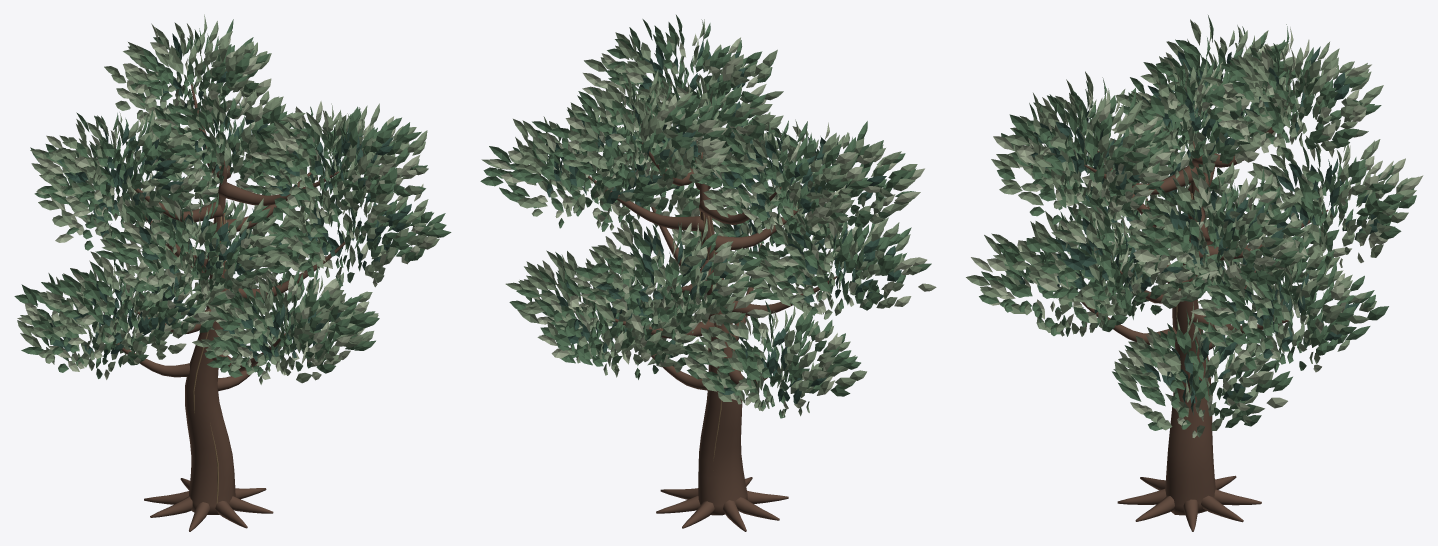
File: scholar_oak.glb
The picture shows the model from 3 angles, left to right: view 1: azimuth 30°, elevation 25°; view 2: azimuth 150°, elevation 25°; view 3: azimuth 270°, elevation 25°; orthographic projection. The views are drawn at different scales.
Visible parts, largest first — view 1: scholar_oak; view 2: scholar_oak; view 3: scholar_oak.
Part boxes in pixels (x1=…): scholar_oak: x1=14, y1=14, x2=451, y2=531; scholar_oak: x1=480, y1=15, x2=936, y2=531; scholar_oak: x1=966, y1=15, x2=1423, y2=531.
Bounding box in the file's own units: 6.18 × 6.65 × 5.82.
3 materials, 3 textured.
